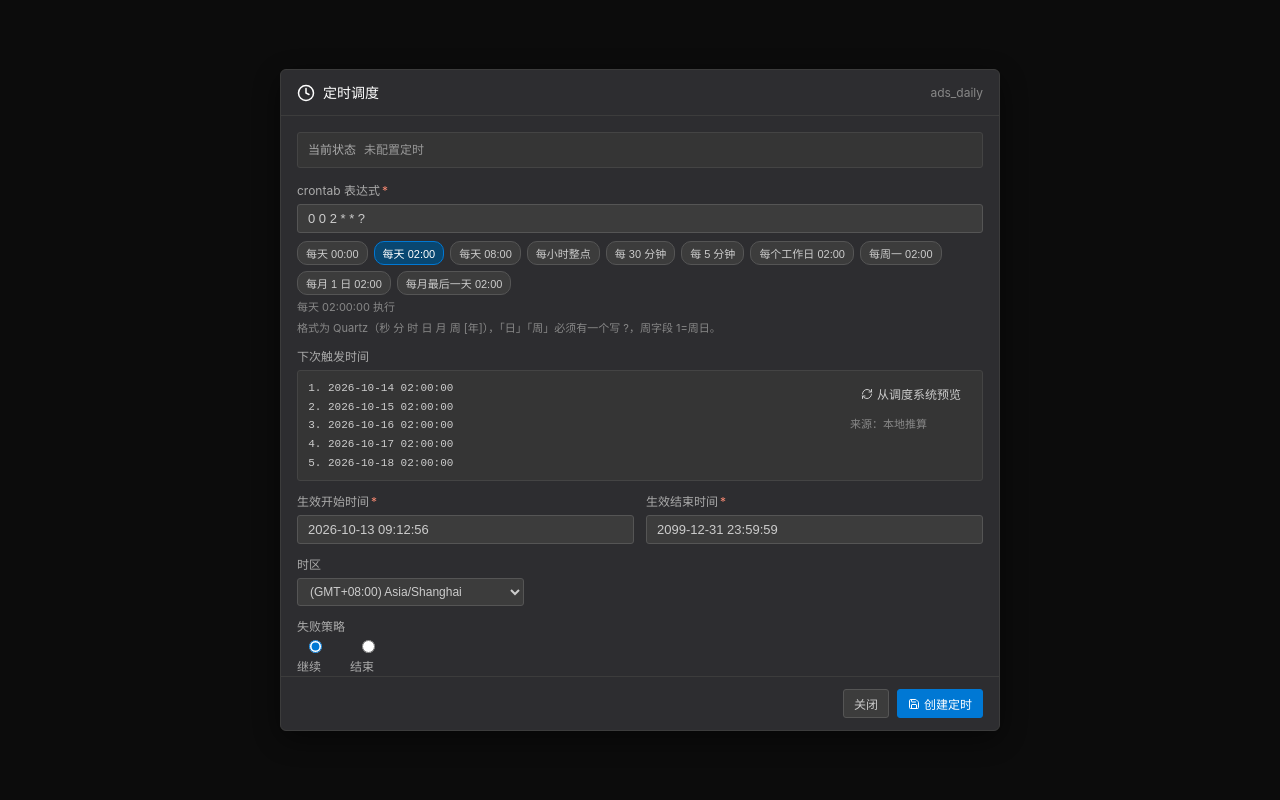
Test: crontab 与生效区间的闸门 › 生效区间颠倒时报错并禁止保存
The image size is (1280, 800).
Expected: the text "未配置定时" is shown, [364, 141, 424, 159]
Replace the text in the field with placeholder "yyyy-MM-dd HH:mm:ss" below "生效开始时间" with "2030-01-02 00:00:00" at (466, 530), box [297, 515, 634, 544]
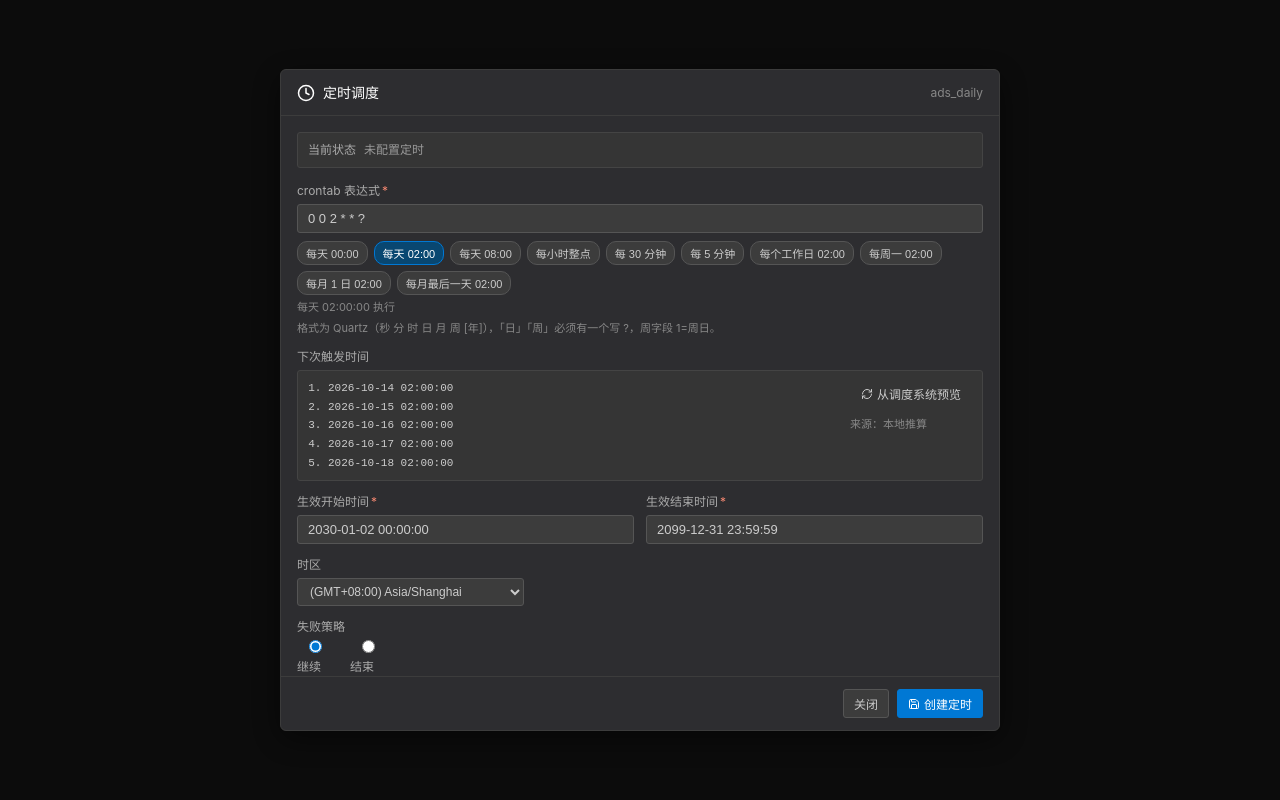
Replace the text in the field with placeholder "yyyy-MM-dd HH:mm:ss" below "生效结束时间" with "2030-01-01 00:00:00" at (814, 530), box [646, 515, 983, 544]
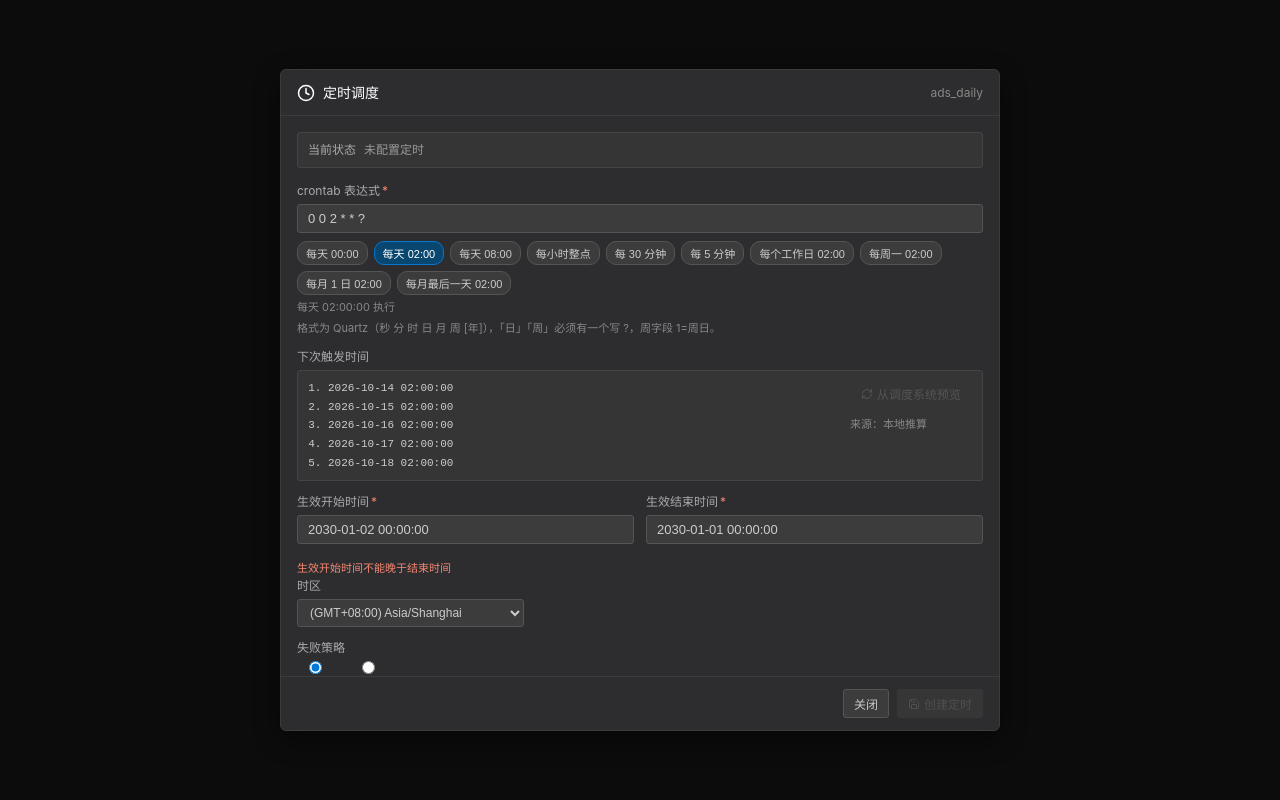
Expected: the text "生效开始时间不能晚于结束时间" is shown, [297, 561, 451, 575]
Expected: the button with test id "schedule-save" is disabled, [897, 689, 983, 718]
